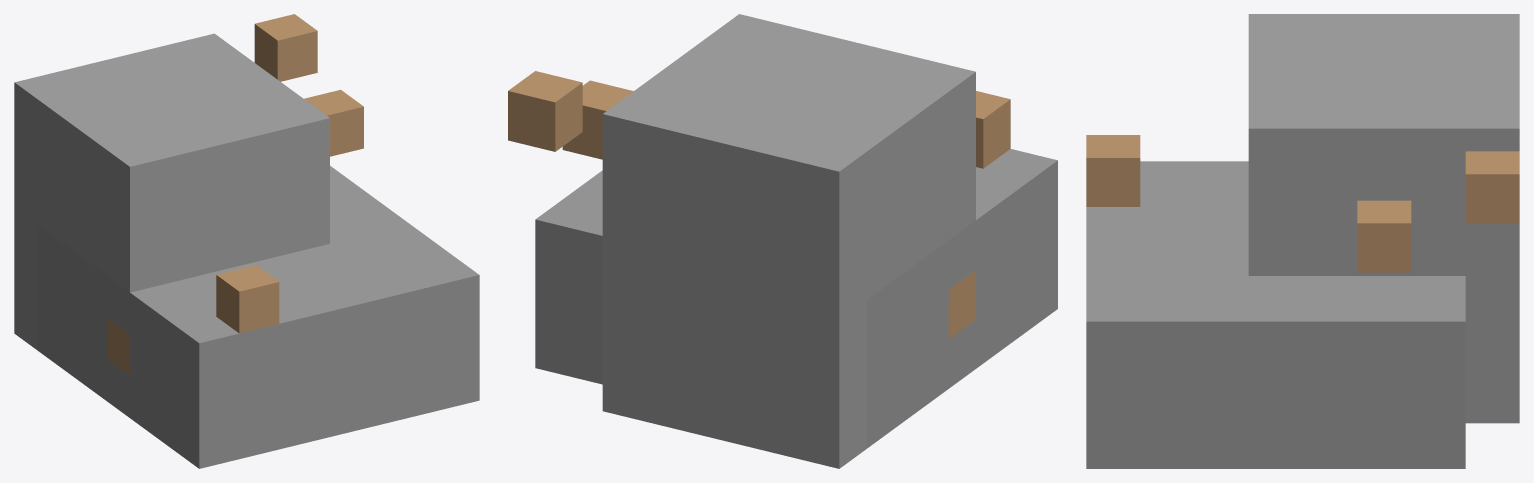
File: veta_cobre_01.glb
The picture shows the model from 3 angles, left to right: view 1: azimuth 30°, elevation 25°; view 2: azimuth 150°, elevation 25°; view 3: azimuth 270°, elevation 25°; orthographic projection. The views are drawn at different scales.
Visible parts, largest first — view 1: veta_cobre_01; view 2: veta_cobre_01; view 3: veta_cobre_01.
Part boxes in pixels (box(x1,y1,x2,y2)): veta_cobre_01: box(14, 14, 479, 468); veta_cobre_01: box(508, 14, 1057, 468); veta_cobre_01: box(1086, 14, 1519, 468).
Bounding box in the file's own units: 0.7 × 0.6 × 0.8.
